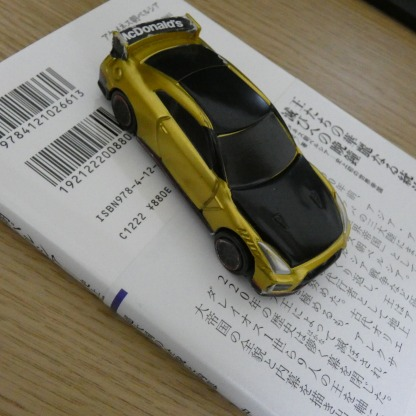car: (91, 17, 347, 299)
